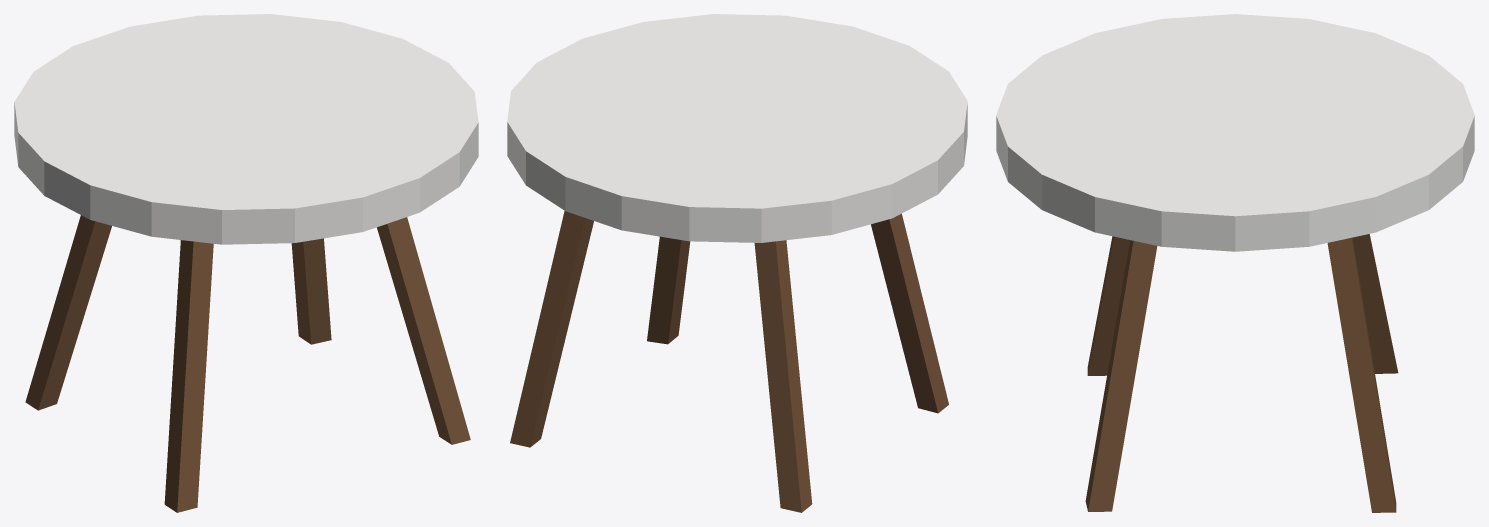
Rendered from Table_12.fbx.
3 views of the same model, side by side, from view 1: azimuth 30°, elevation 25°; view 2: azimuth 150°, elevation 25°; view 3: azimuth 270°, elevation 25° (orthographic). The views are drawn at different scales.
Visible parts, largest first — view 1: Table_12; view 2: Table_12; view 3: Table_12.
Boxes of the visible parts, <box> form: Table_12: <box>14,14,478,512</box>; Table_12: <box>507,14,967,512</box>; Table_12: <box>996,14,1474,512</box>.
Bounding box in the file's own units: 154 × 154 × 114.
